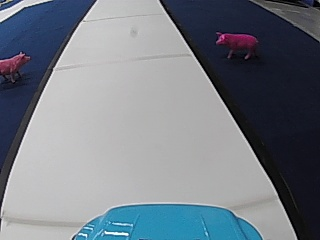pig: (212, 28, 259, 59), (0, 49, 30, 83)
